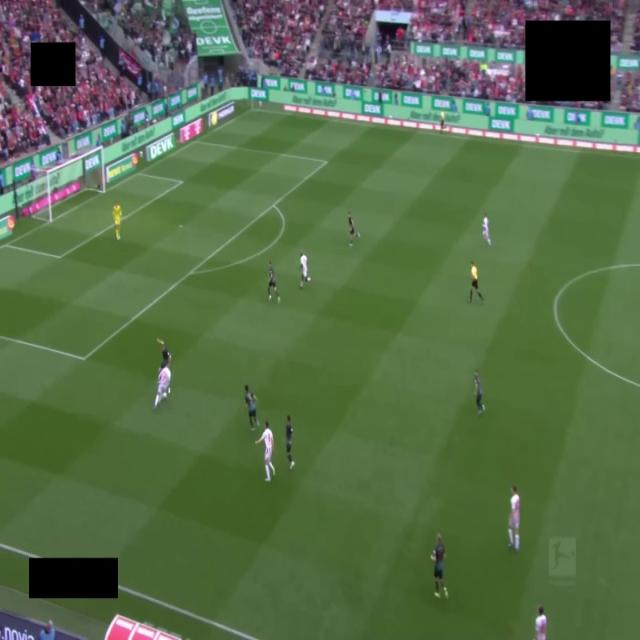player: (431, 534, 448, 598), (256, 421, 274, 481), (154, 367, 170, 408), (509, 486, 519, 551), (245, 385, 259, 430), (157, 339, 171, 374), (268, 261, 279, 302), (474, 370, 484, 415), (286, 416, 294, 468), (300, 252, 311, 288), (348, 213, 359, 246), (535, 606, 546, 639), (113, 202, 121, 239), (483, 216, 491, 247)
referee: (469, 262, 483, 303)
